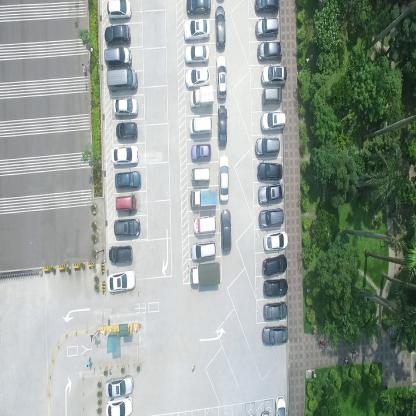car: (190, 260, 221, 287), (106, 68, 136, 93), (107, 266, 136, 291), (104, 373, 134, 397), (261, 322, 288, 346), (189, 184, 217, 207), (104, 394, 133, 416), (110, 144, 140, 165), (190, 238, 216, 262), (262, 252, 288, 276), (260, 108, 286, 132), (183, 17, 210, 40), (104, 23, 132, 45), (257, 182, 285, 204), (190, 83, 214, 107), (218, 152, 230, 200), (257, 40, 283, 62), (103, 46, 131, 66), (214, 3, 226, 49), (254, 18, 279, 40), (261, 64, 286, 86), (263, 229, 288, 251), (258, 206, 283, 228), (112, 95, 138, 116), (215, 53, 227, 98), (220, 207, 232, 252), (114, 169, 141, 189), (113, 216, 140, 236), (184, 42, 209, 63), (185, 65, 210, 86), (263, 300, 288, 321), (254, 136, 280, 156), (106, 0, 133, 19), (188, 113, 212, 134), (263, 277, 288, 297), (256, 162, 282, 181), (193, 213, 216, 234), (108, 242, 132, 262), (115, 120, 138, 140), (114, 192, 136, 212), (191, 140, 212, 160), (217, 102, 227, 144), (261, 87, 282, 106), (186, 0, 212, 15), (254, 0, 279, 15), (191, 164, 211, 182), (274, 394, 286, 415)
